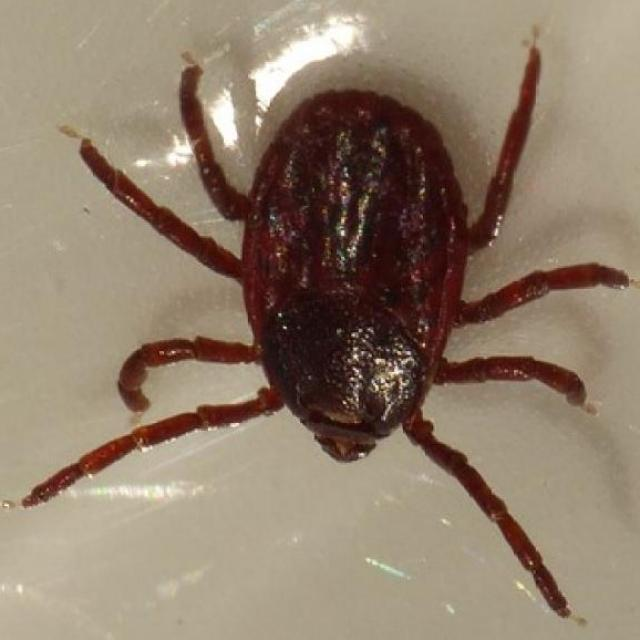Rhipicephalus Sanguineus-F: (16, 39, 629, 618)
